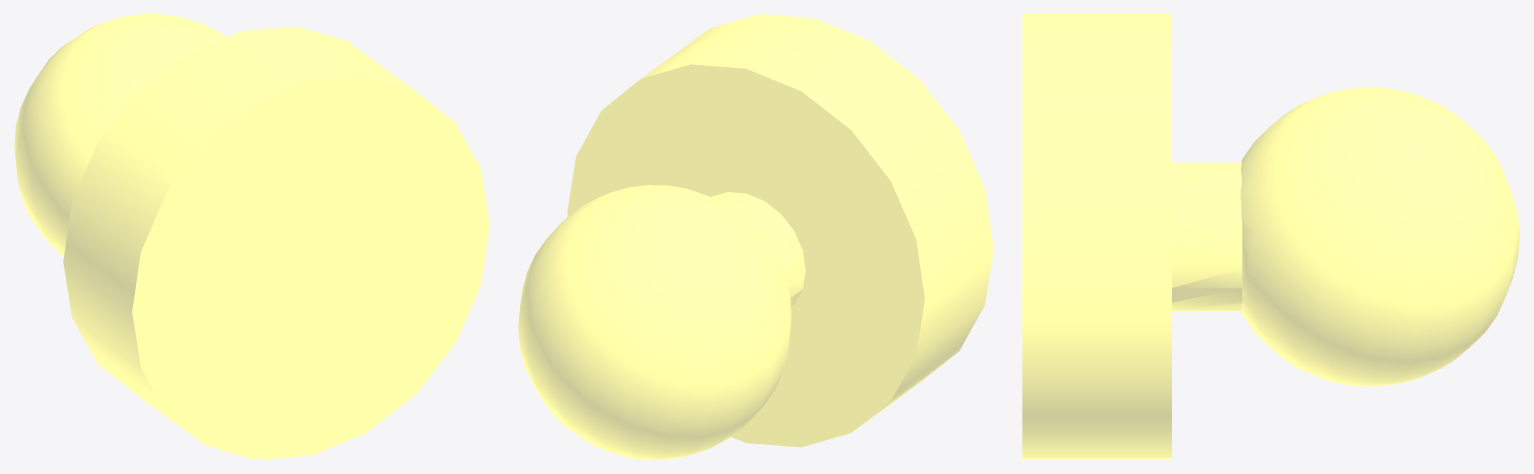
File: door_handle.fbx
3 renders of one model, left to right at view 1: azimuth 30°, elevation 25°; view 2: azimuth 150°, elevation 25°; view 3: azimuth 270°, elevation 25°, orthographic. The views are drawn at different scales.
Visible parts, largest first — view 1: pCylinder11; view 2: pCylinder11; view 3: pCylinder11.
Part boxes in pixels (x1,y1,x2,y2): pCylinder11: (14, 14, 489, 459); pCylinder11: (518, 14, 993, 459); pCylinder11: (1022, 14, 1519, 459).
Bounding box in the file's own units: 1.2 × 1.2 × 1.33.
